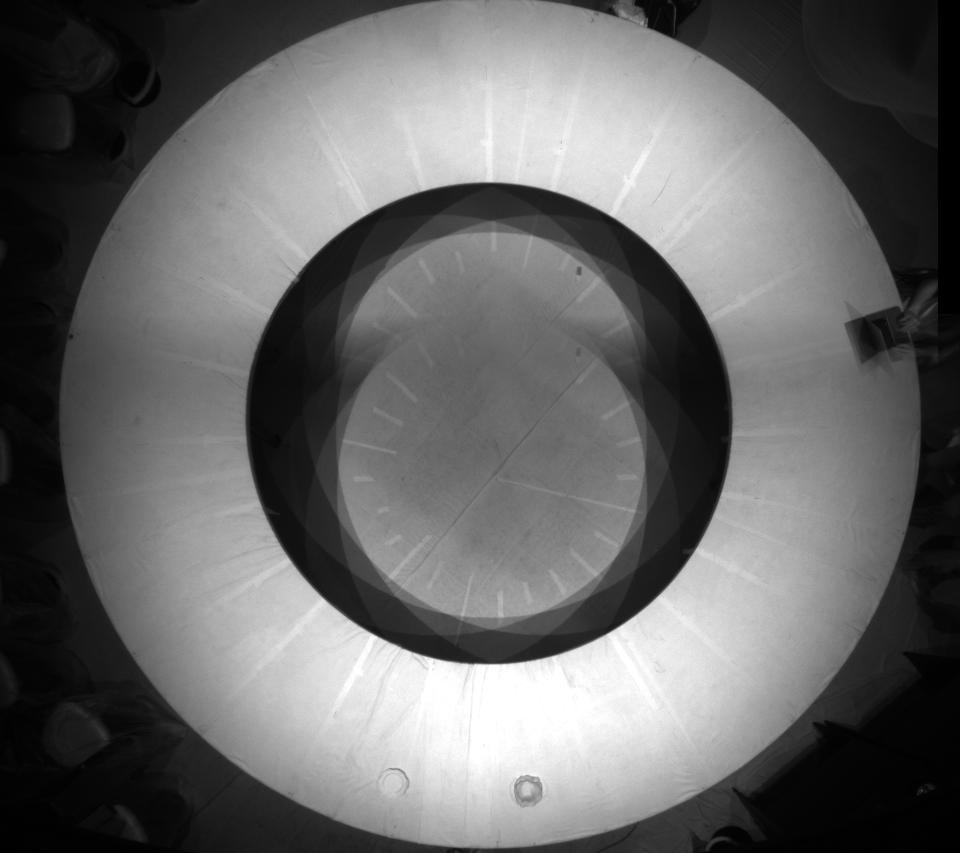Plate: (508, 771, 548, 812)
